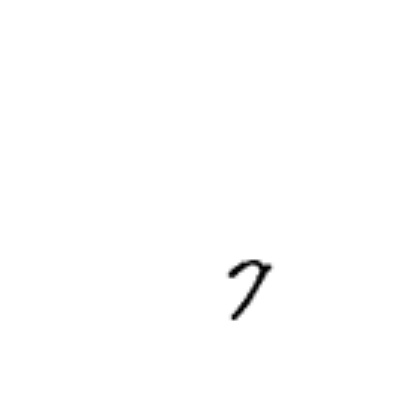7: (66, 294, 178, 406)
Ankle_boot: (199, 142, 227, 170)
Coat: (176, 267, 288, 379), (20, 189, 42, 211)
Dress: (105, 156, 217, 268)
Sandal: (380, 205, 408, 233)
Shirt: (159, 13, 181, 35)
Trouser: (283, 313, 339, 369)
